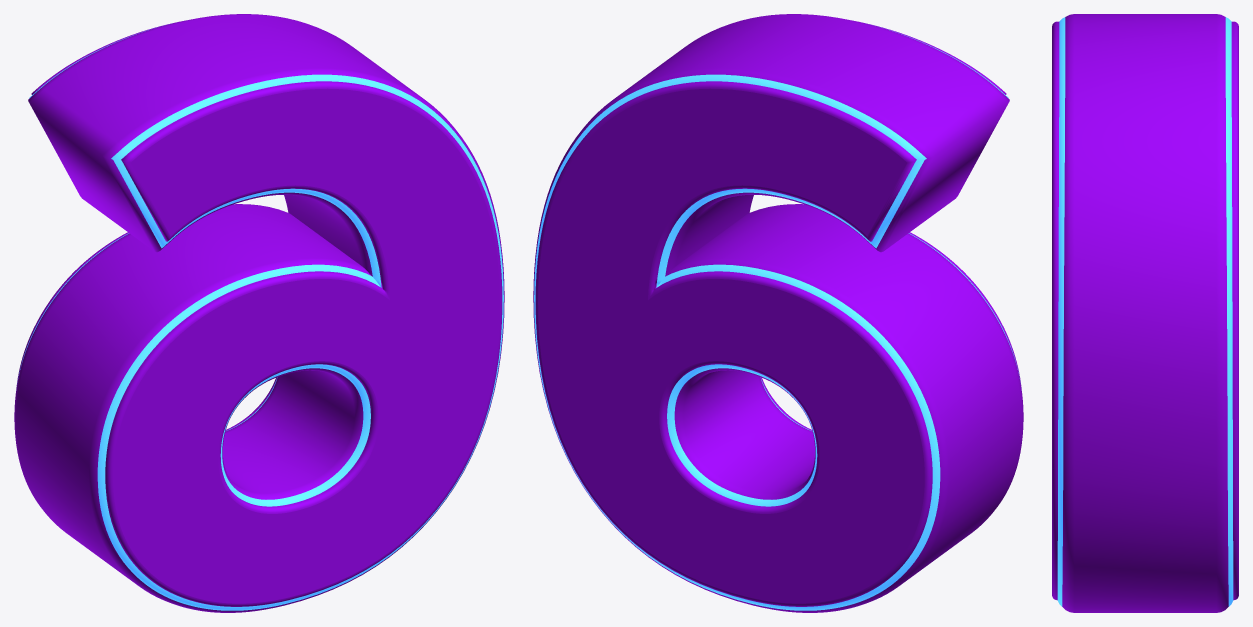
Rendered from six.fbx.
The picture shows the model from 3 angles, left to right: view 1: azimuth 30°, elevation 25°; view 2: azimuth 150°, elevation 25°; view 3: azimuth 270°, elevation 25°; orthographic projection. The views are drawn at different scales.
Parts seen in each view (by area): view 1: Object_8; view 2: Object_8; view 3: Object_8.
Part boxes in pixels (x1,y1,x2,y2): Object_8: (14, 14, 504, 612); Object_8: (533, 14, 1023, 612); Object_8: (1052, 14, 1238, 612).
Bounding box in the file's own units: 2553 × 3156 × 1020.
